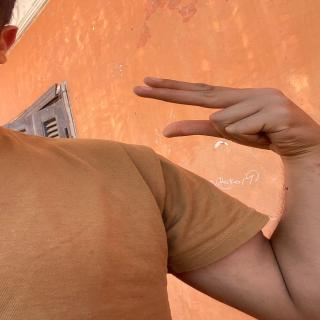DHELL: (124, 71, 320, 158)
